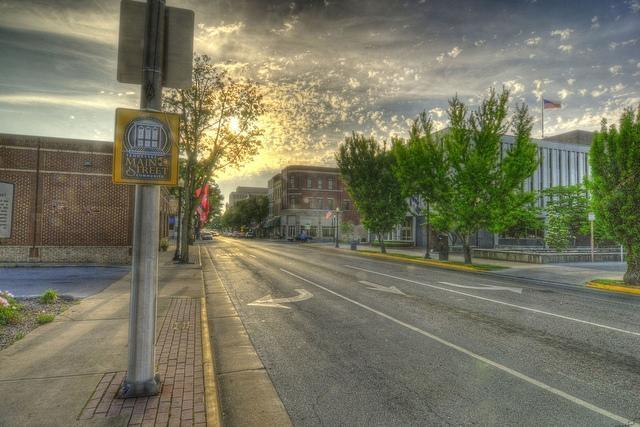car: (288, 234, 314, 242), (202, 232, 212, 240), (244, 231, 254, 237), (210, 231, 219, 236), (240, 232, 244, 238)
